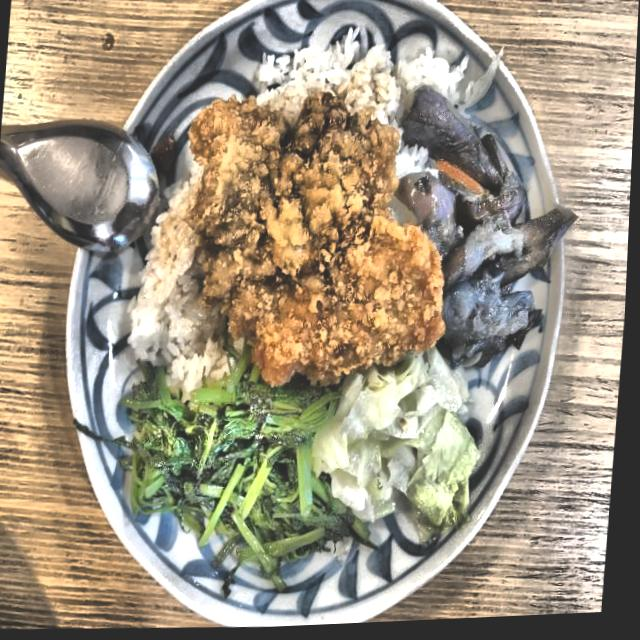Food: (174, 90, 457, 387), (117, 369, 343, 569), (331, 369, 483, 547), (135, 200, 209, 380), (253, 45, 437, 107)
